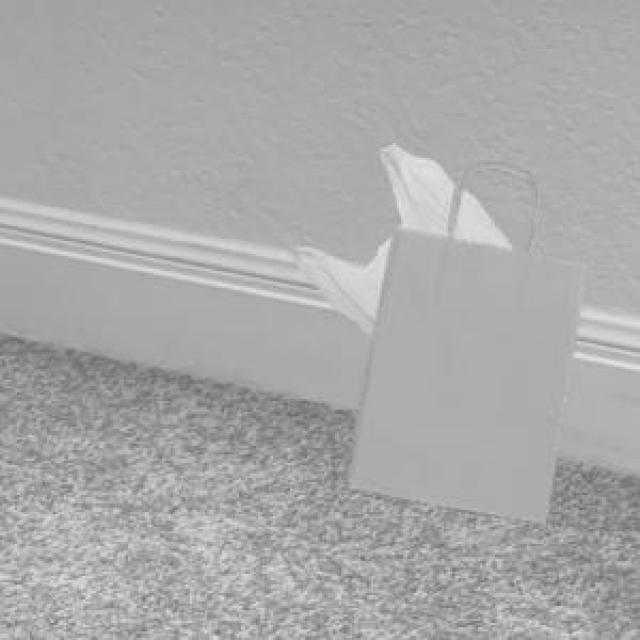paper: (344, 156, 582, 521)
